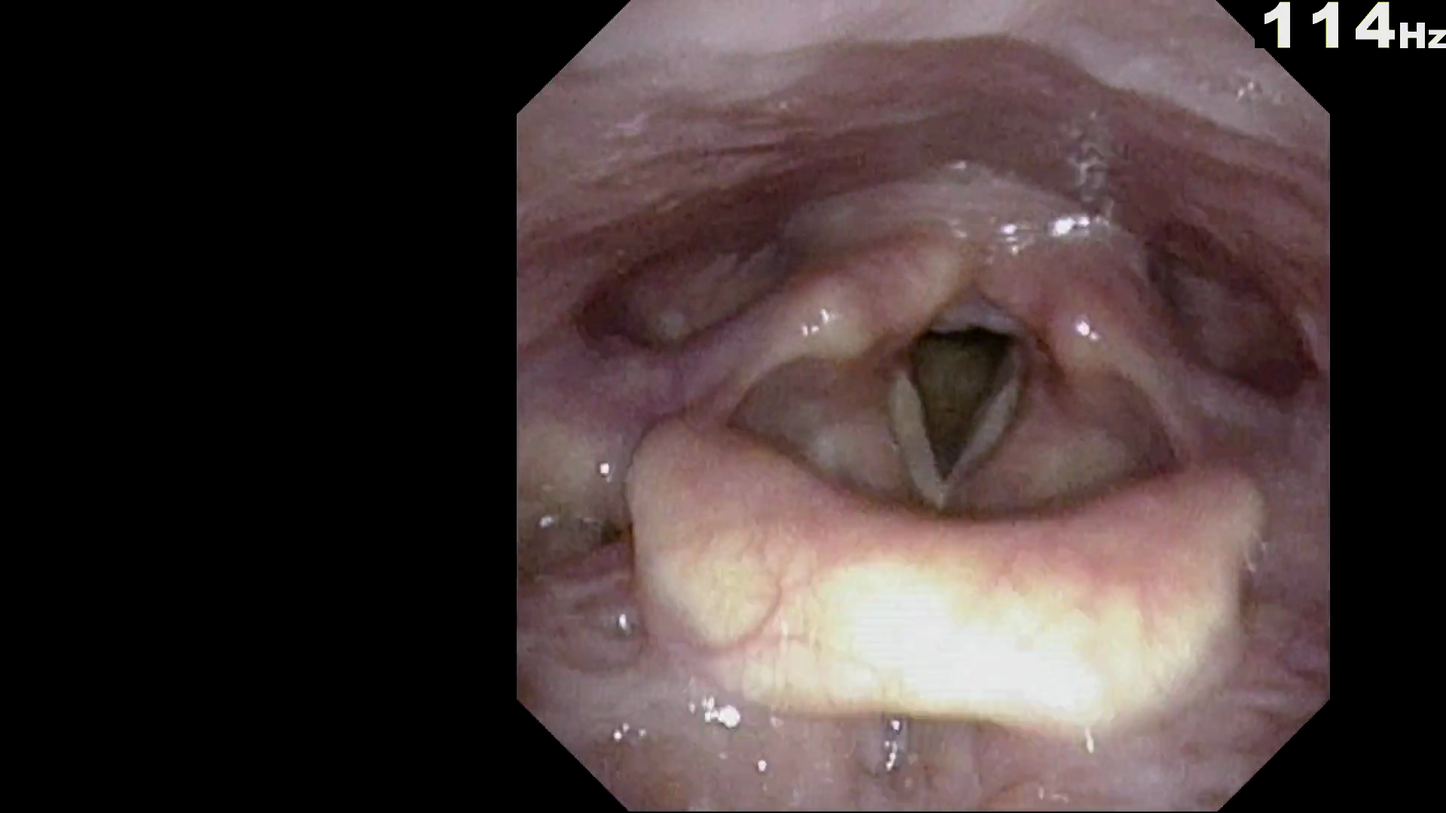epiglottis: (588, 422, 1278, 724)
trachea: (864, 314, 1042, 539)
